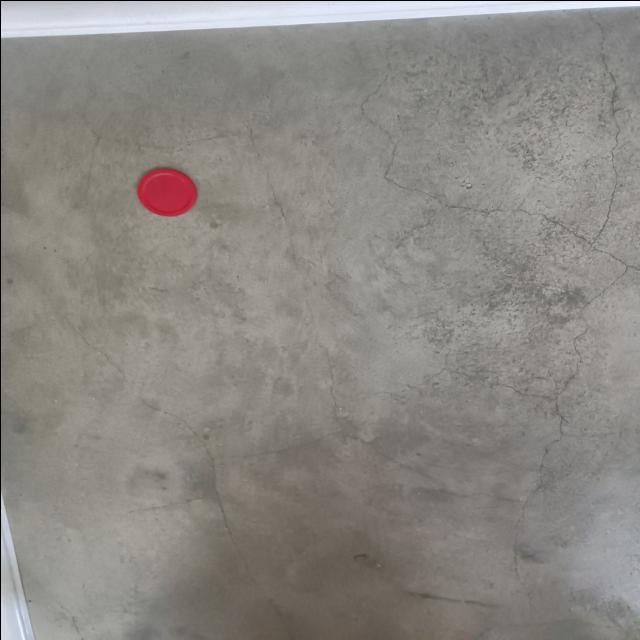chip: (133, 165, 200, 218)
